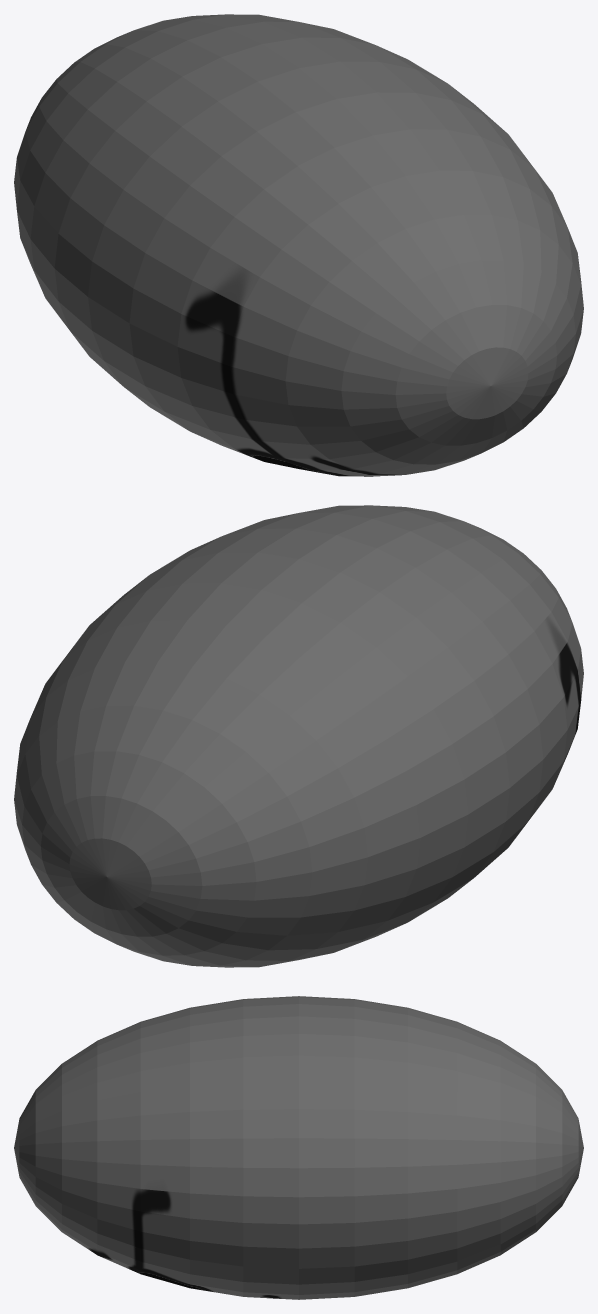
The model's file is Chiseler.fbx.
3 renders of one model, top to bottom at view 1: azimuth 30°, elevation 25°; view 2: azimuth 150°, elevation 25°; view 3: azimuth 270°, elevation 25°, orthographic. The views are drawn at different scales.
Parts seen in each view (by area): view 1: Sphere; view 2: Sphere; view 3: Sphere.
Part boxes in pixels (x1,y1,x2,y2): Sphere: (14,14,583,476); Sphere: (14,505,583,967); Sphere: (14,996,583,1299).
Size of the model in its own units: 230 by 185 by 363.
1 material, 1 textured.
